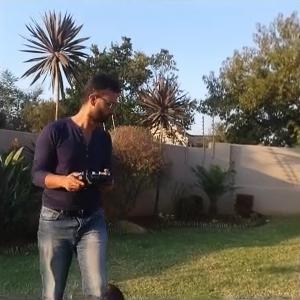follow: (27, 68, 121, 298)
